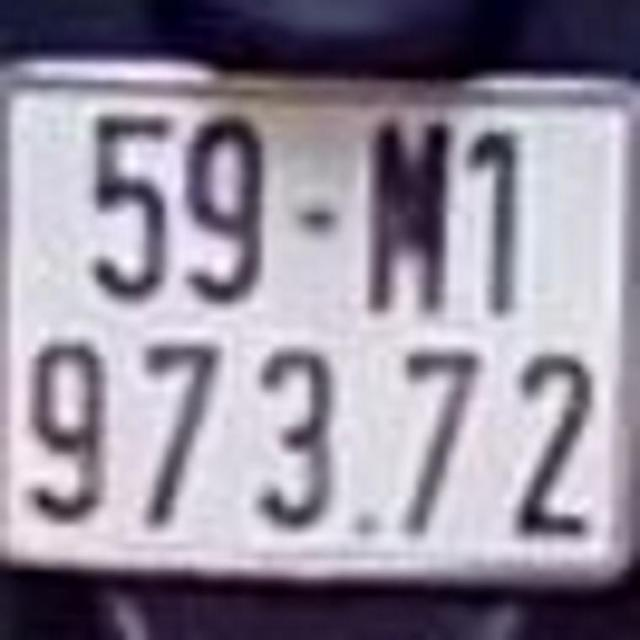1: (467, 123, 517, 311)
2: (513, 348, 599, 542)
3: (257, 342, 331, 535)
5: (89, 103, 176, 299)
7: (398, 339, 484, 544), (140, 334, 220, 544)
9: (26, 336, 105, 521), (189, 114, 266, 303)
M: (372, 118, 456, 324)
